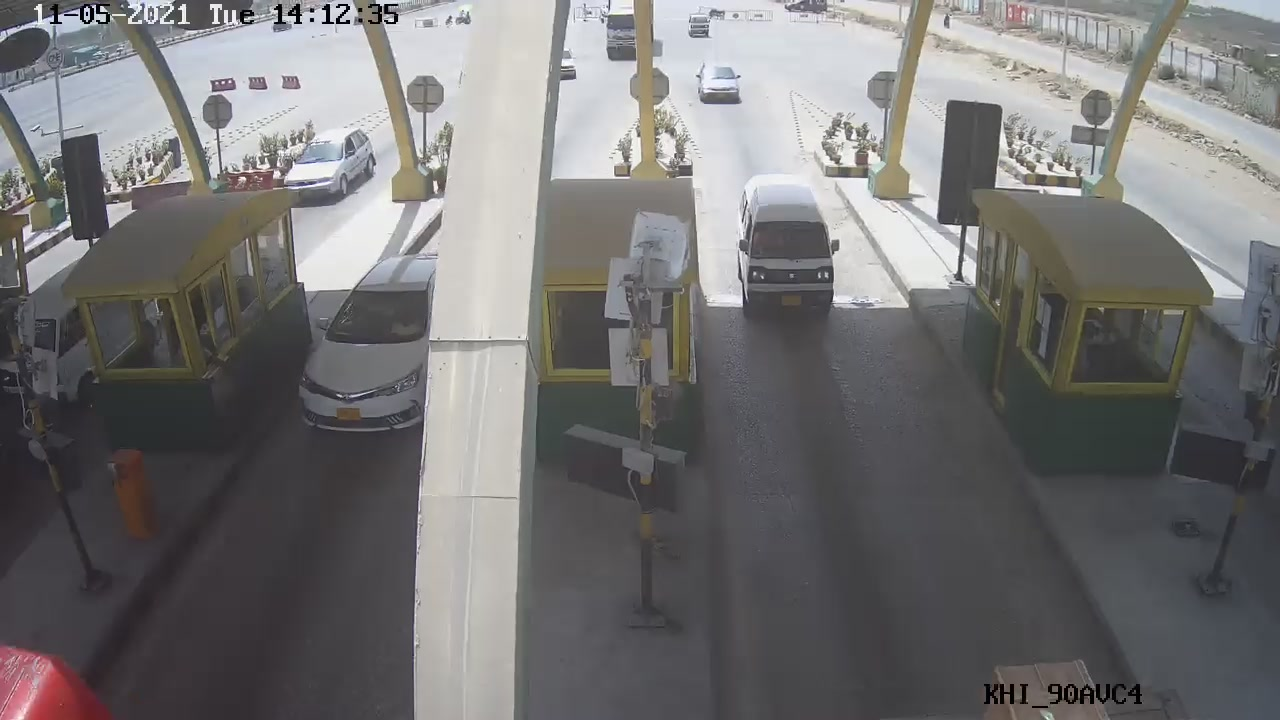F1: (729, 171, 852, 337)
